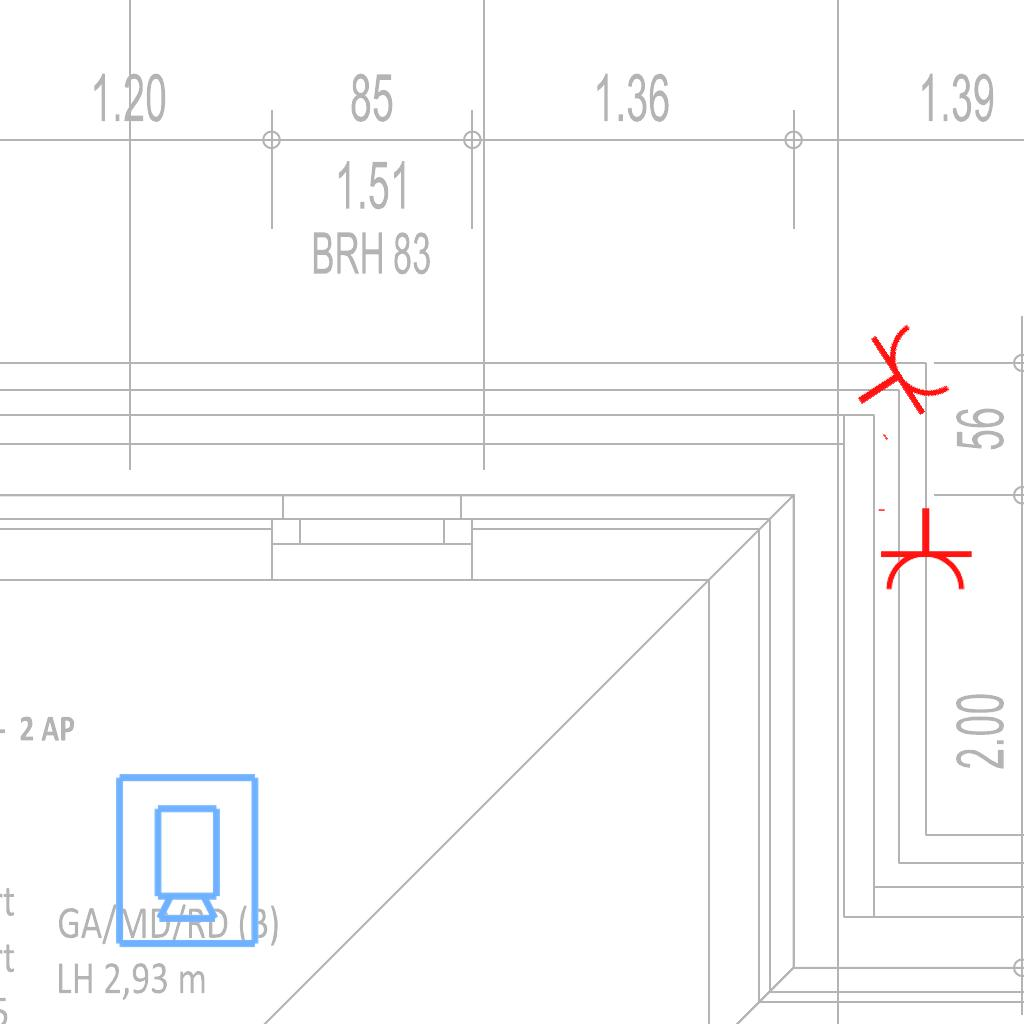KFO_Kamera_mit_Festobjektiv: (109, 769, 263, 951)
Schukosteckdose_einfach: (831, 314, 960, 446), (874, 506, 974, 593)
